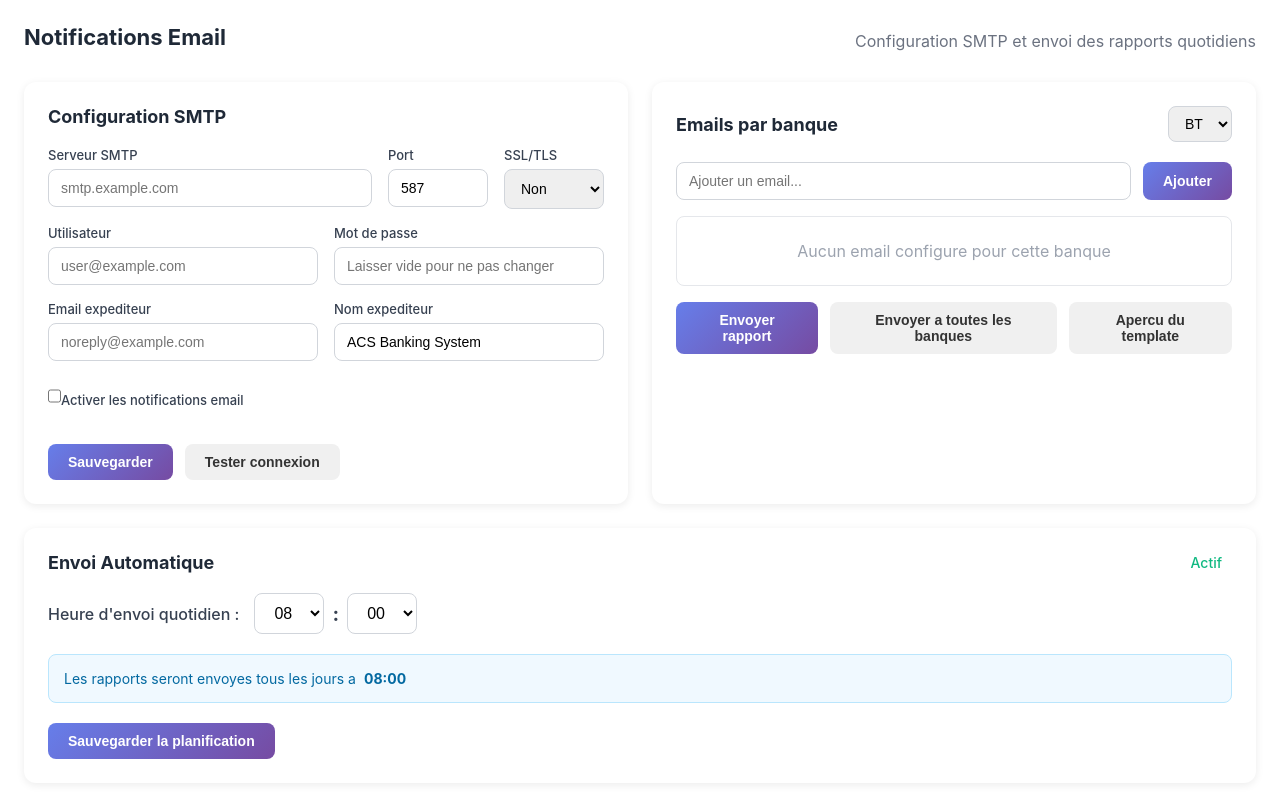
Notifications › closes email preview modal via overlay click
Expected: the heading "Notifications Email" is shown, [24,24,226,50]
Step 1. Click the button "Apercu du template" → (1150, 328), box [1069,302,1232,354]
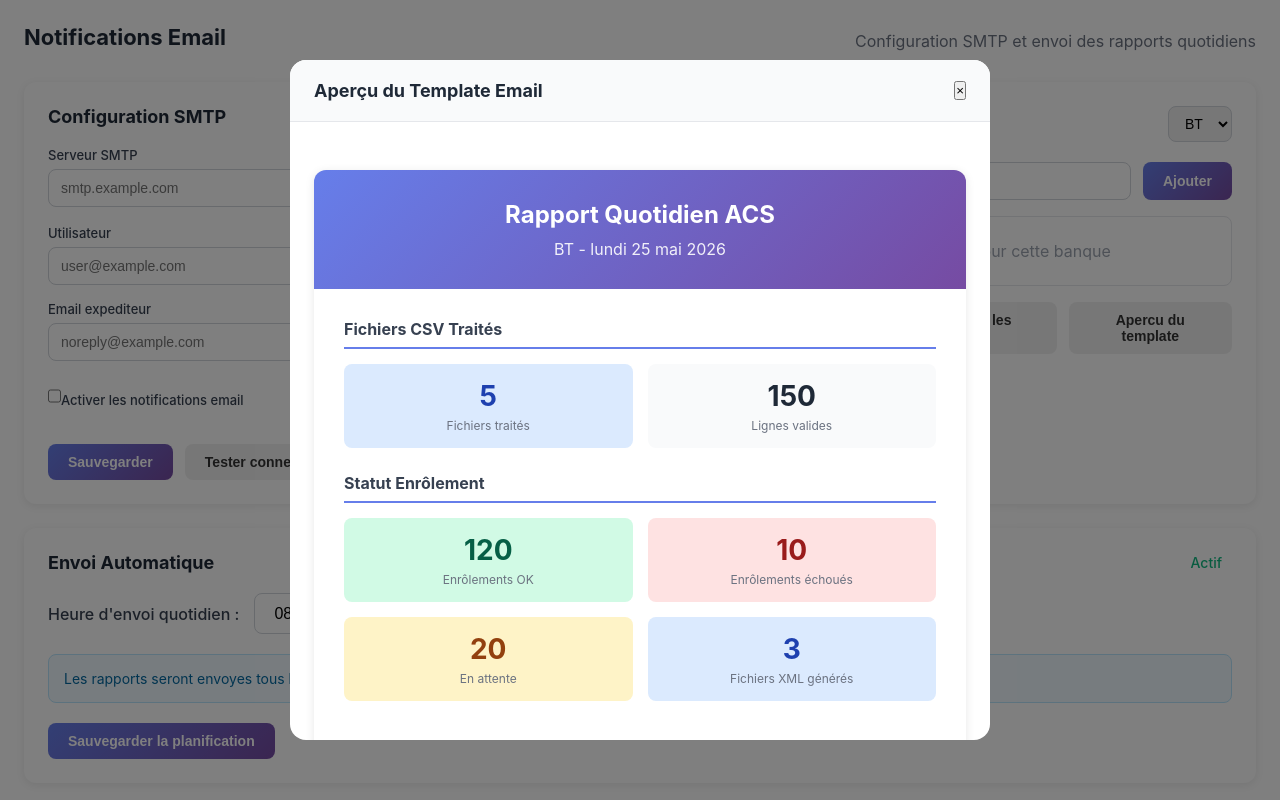
Now the heading "Aperçu du Template Email" is shown, box [314,80,543,101]
Step 2. Click the element with class "modal-overlay" → (77, 400), box [0,0,1279,799]
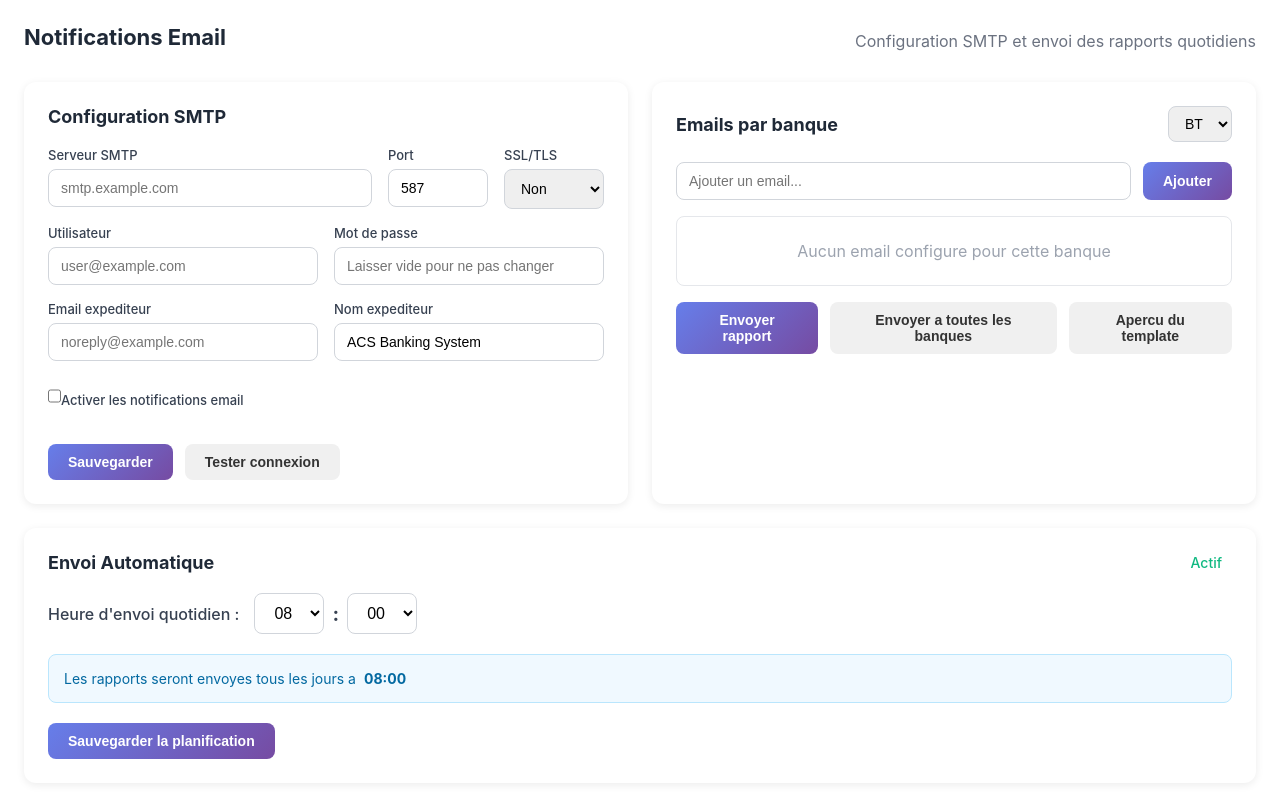
Now the heading "Aperçu du Template Email" is gone
